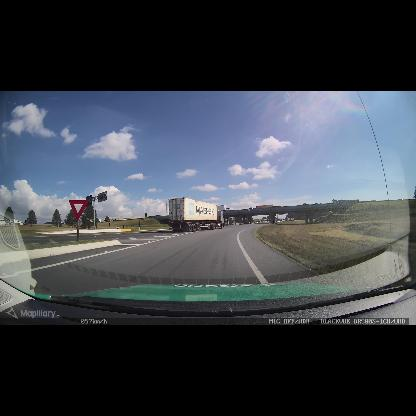R-2: (68, 200, 89, 222)
